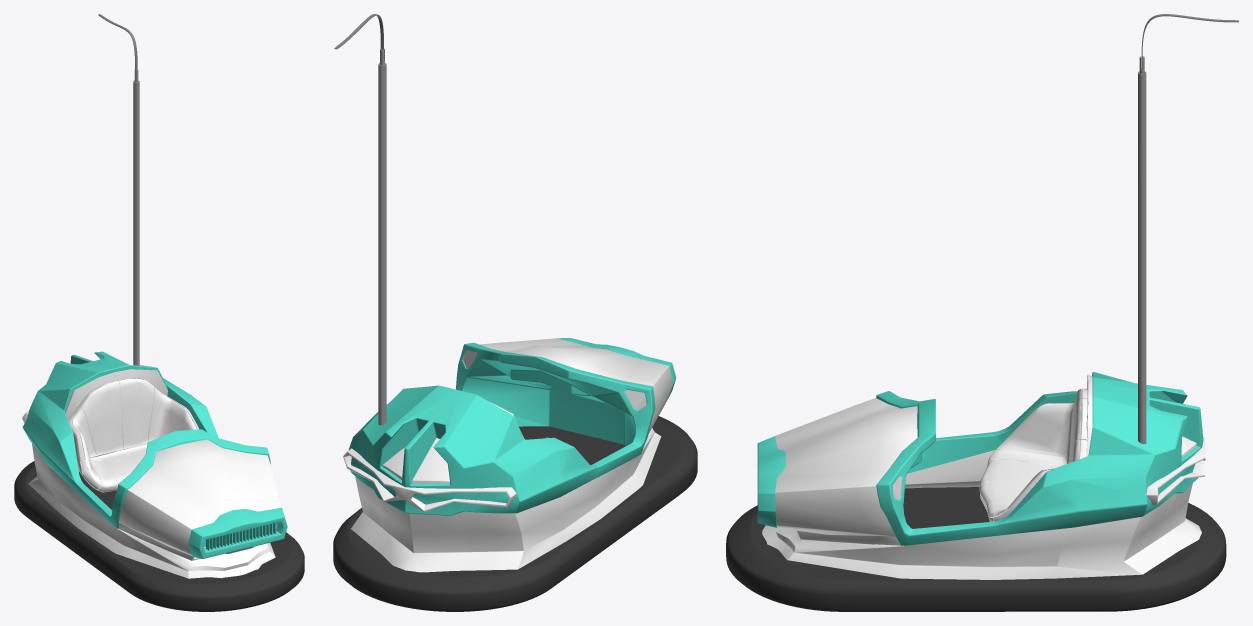
File: BumpyCar.glb
3 renders of one model, left to right at view 1: azimuth 30°, elevation 25°; view 2: azimuth 150°, elevation 25°; view 3: azimuth 270°, elevation 25°, orthographic. The views are drawn at different scales.
Visible parts, largest first — view 1: BODY, base 1, Body Armor, seat 1, front, Cylinder.001, grill; view 2: Body Armor, BODY, base 1, Cylinder.001, Cube.001, front, rearview mirror; view 3: BODY, base 1, Body Armor, seat 1, Cylinder.001, front, Cube.001.
Boxes of the visible parts, x1,y1,x2,y2 form: BODY: (28,369,281,578); base 1: (14,451,304,611); Body Armor: (22,351,270,546); seat 1: (68,377,198,492); front: (188,507,287,558); Cylinder.001: (133,69,139,365); grill: (206,523,276,550); Body Armor: (348,342,655,515); BODY: (351,338,673,572); base 1: (333,416,697,611); Cylinder.001: (378,48,386,425); Cube.001: (343,448,516,511); front: (556,337,676,396); rearview mirror: (463,349,646,409); BODY: (762,374,1201,579); base 1: (726,487,1226,611); Body Armor: (876,372,1203,545); seat 1: (979,388,1088,521); Cylinder.001: (1138,56,1146,444); front: (757,436,785,527); Cube.001: (1146,436,1205,504).
Bounding box in the file's own units: 1.28 × 3.28 × 2.66.
